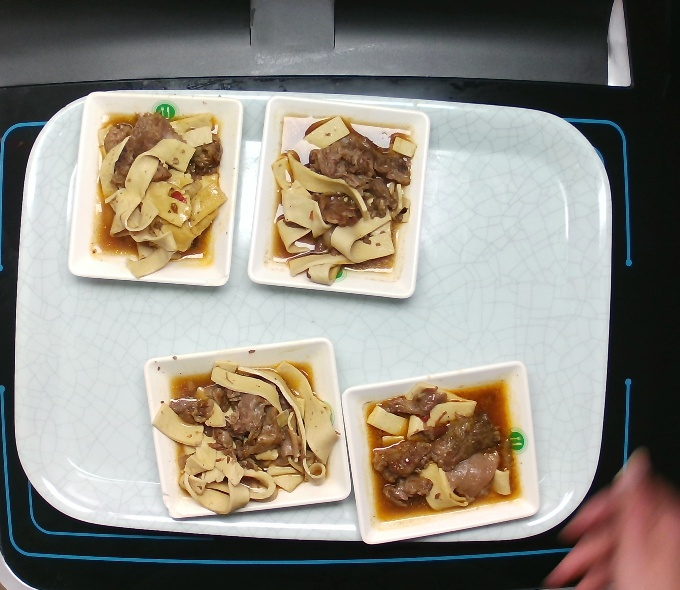wcq-QianZhangNiuNan: (146, 348, 343, 516), (262, 110, 415, 292), (87, 102, 232, 280), (353, 381, 515, 518)
